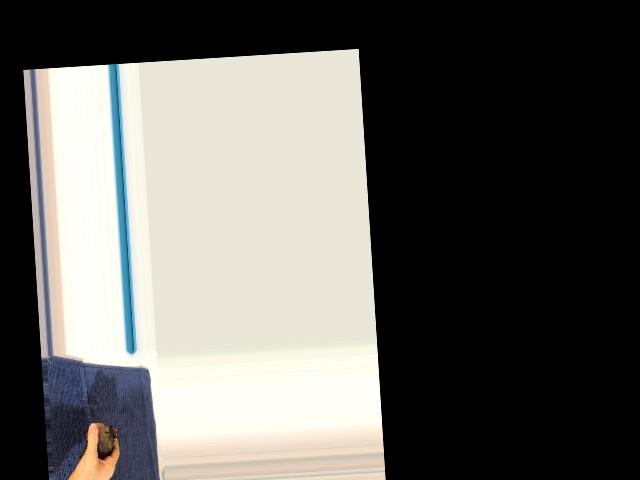beet: (72, 421, 118, 460)
